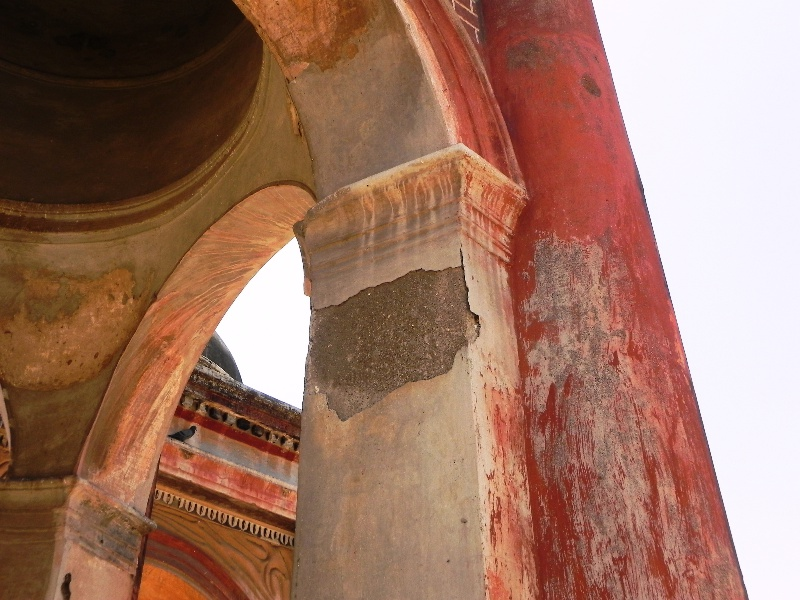Spalling: (306, 258, 480, 422)
